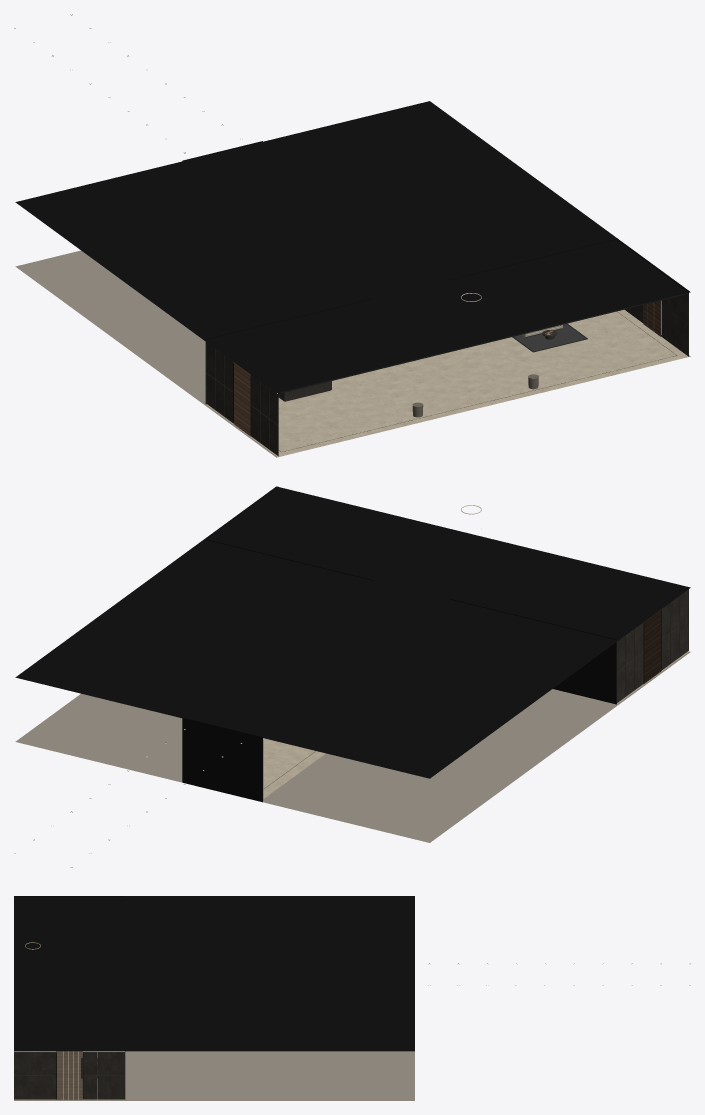
File: room_hub.glb
3 views of the same model, one above another, from view 1: azimuth 30°, elevation 25°; view 2: azimuth 150°, elevation 25°; view 3: azimuth 270°, elevation 25° (orthographic). The views are drawn at different scales.
Visible parts, largest first — view 1: MTG_Reveals, MTG_Floor, MTG_Walls, MTG_RecRug, MTG_Ceiling; view 2: MTG_Reveals, MTG_Walls, MTG_Floor; view 3: MTG_Reveals, MTG_Walls, MTG_Floor.
Boxes of the visible parts, x1,y1,x2,y2 form: MTG_Reveals: (15, 101, 690, 457); MTG_Floor: (206, 309, 688, 456); MTG_Walls: (206, 293, 688, 456); MTG_RecRug: (513, 324, 586, 351); MTG_Ceiling: (279, 293, 686, 393); MTG_Reveals: (15, 486, 690, 842); MTG_Walls: (616, 589, 688, 703); MTG_Floor: (263, 651, 688, 798); MTG_Reveals: (14, 896, 414, 1100); MTG_Walls: (14, 1051, 125, 1099); MTG_Floor: (14, 1051, 124, 1099).
Bounding box in the file's own units: 33 × 7.67 × 60.78.
28 materials, 6 textured.
